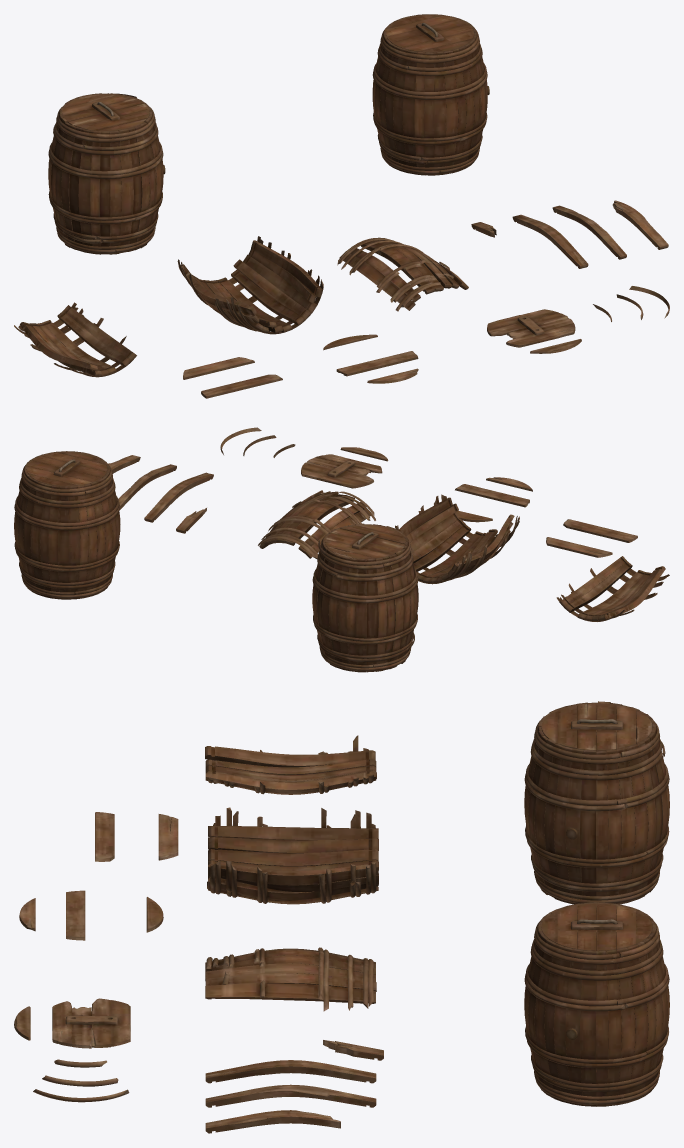
The model's file is wooden_barrels_01.glb.
3 renders of one model, top to bottom at view 1: azimuth 30°, elevation 25°; view 2: azimuth 150°, elevation 25°; view 3: azimuth 270°, elevation 25°, orthographic. The views are drawn at different scales.
Visible parts, largest first — view 1: wooden_barrels_01_piece01, wooden_barrels_01_barrel02, wooden_barrels_01_barrel01; view 2: wooden_barrels_01_piece01, wooden_barrels_01_barrel02, wooden_barrels_01_barrel01; view 3: wooden_barrels_01_piece01, wooden_barrels_01_barrel01, wooden_barrels_01_barrel02.
Boxes of the visible parts, box(x1,y1,x2,y2) form: wooden_barrels_01_piece01: box(14, 200, 669, 398); wooden_barrels_01_barrel02: box(48, 93, 165, 254); wooden_barrels_01_barrel01: box(372, 14, 489, 175); wooden_barrels_01_piece01: box(108, 427, 669, 621); wooden_barrels_01_barrel02: box(312, 523, 418, 672); wooden_barrels_01_barrel01: box(14, 451, 120, 599); wooden_barrels_01_piece01: box(14, 735, 383, 1133); wooden_barrels_01_barrel01: box(524, 902, 669, 1106); wooden_barrels_01_barrel02: box(524, 701, 669, 904).
Size of the model in its own units: 4.44 by 0.9568 by 3.34.
3 materials, 3 textured.
